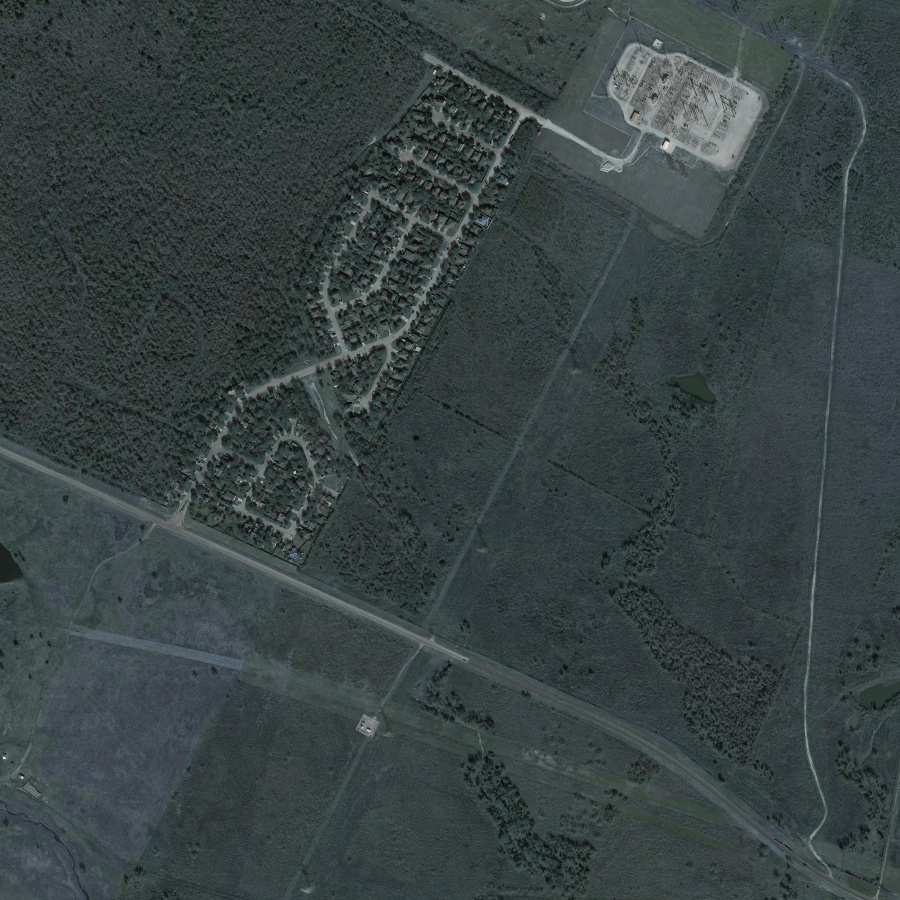PowerPlant: (605, 27, 752, 164)
